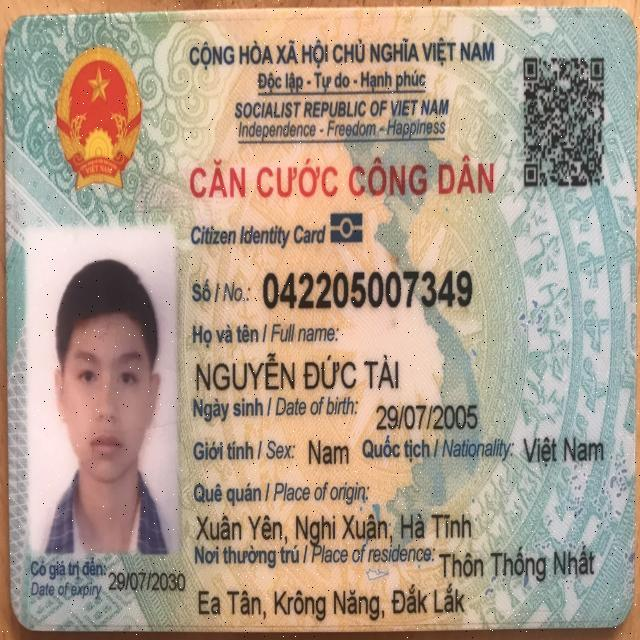current_place: (195, 581, 466, 623), (436, 542, 597, 583)
dob: (374, 401, 479, 433)
expire_date: (106, 566, 188, 596)
gender: (307, 435, 350, 469)
id: (259, 263, 478, 315)
name: (193, 349, 402, 395)
nationality: (521, 433, 605, 470)
origin_place: (193, 510, 474, 547)
qr: (520, 44, 610, 196)
